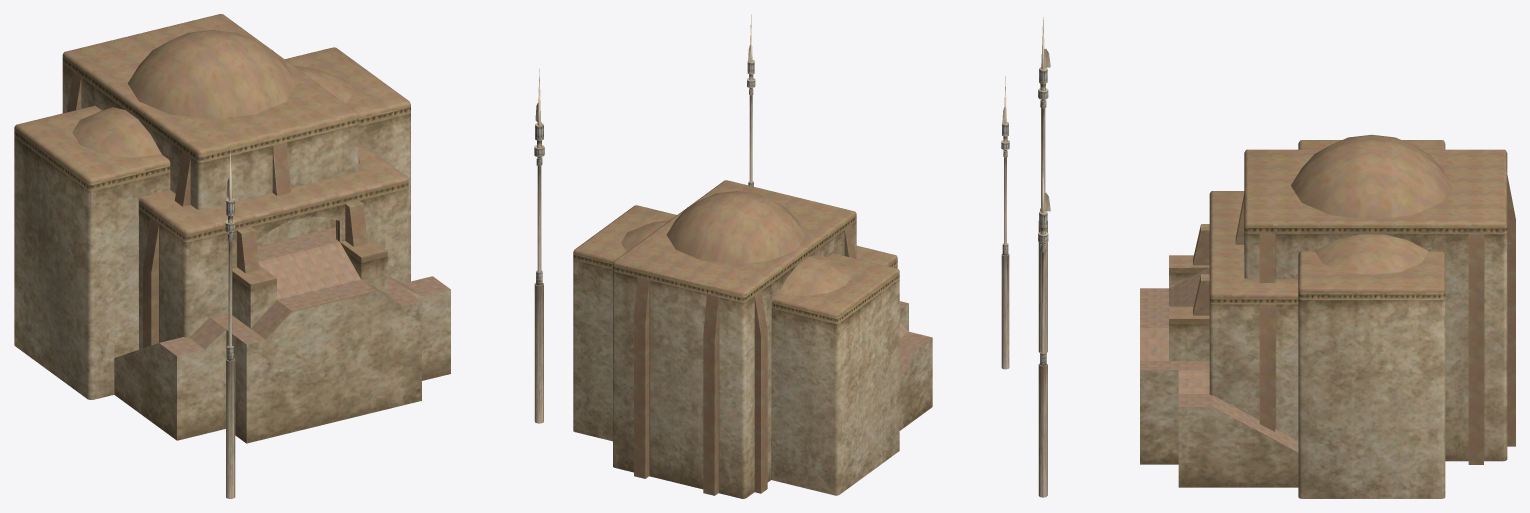
Rendered from ply_tato_capitol_s01_r0_mesh_l2.fbx.
3 renders of one model, left to right at view 1: azimuth 30°, elevation 25°; view 2: azimuth 150°, elevation 25°; view 3: azimuth 270°, elevation 25°, orthographic. The views are drawn at different scales.
Visible parts, largest first — view 1: mesh_node; view 2: mesh_node; view 3: mesh_node.
Part boxes in pixels (box(x1,y1,x2,y2)): mesh_node: box(14, 14, 544, 498); mesh_node: box(573, 14, 1009, 498); mesh_node: box(1038, 17, 1515, 498).
Bounding box in the file's own units: 46 × 48.23 × 61.79.
